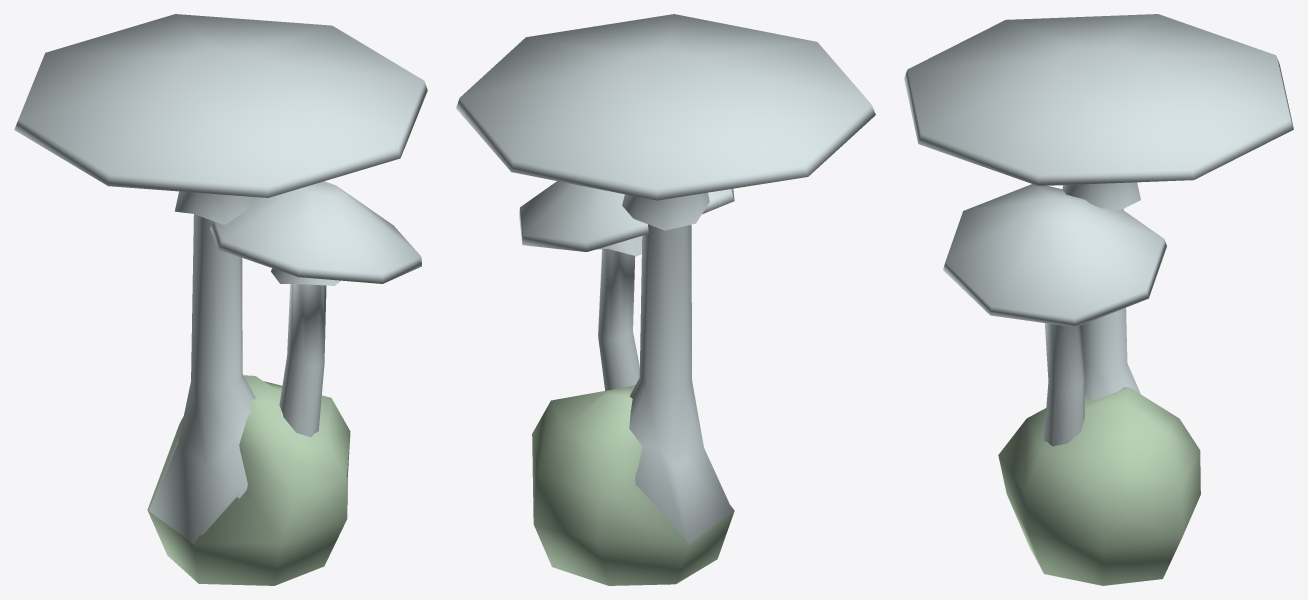
Rendered from Amanita_Ovoidea.fbx.
3 views of the same model, side by side, from view 1: azimuth 30°, elevation 25°; view 2: azimuth 150°, elevation 25°; view 3: azimuth 270°, elevation 25° (orthographic). The views are drawn at different scales.
Visible parts, largest first — view 1: Amanita_Ovoidea; view 2: Amanita_Ovoidea; view 3: Amanita_Ovoidea.
Part boxes in pixels (x1,y1,x2,y2): Amanita_Ovoidea: (14,14,427,585); Amanita_Ovoidea: (456,14,875,585); Amanita_Ovoidea: (904,14,1293,585).
Bounding box in the file's own units: 25.11 × 34 × 25.23.
